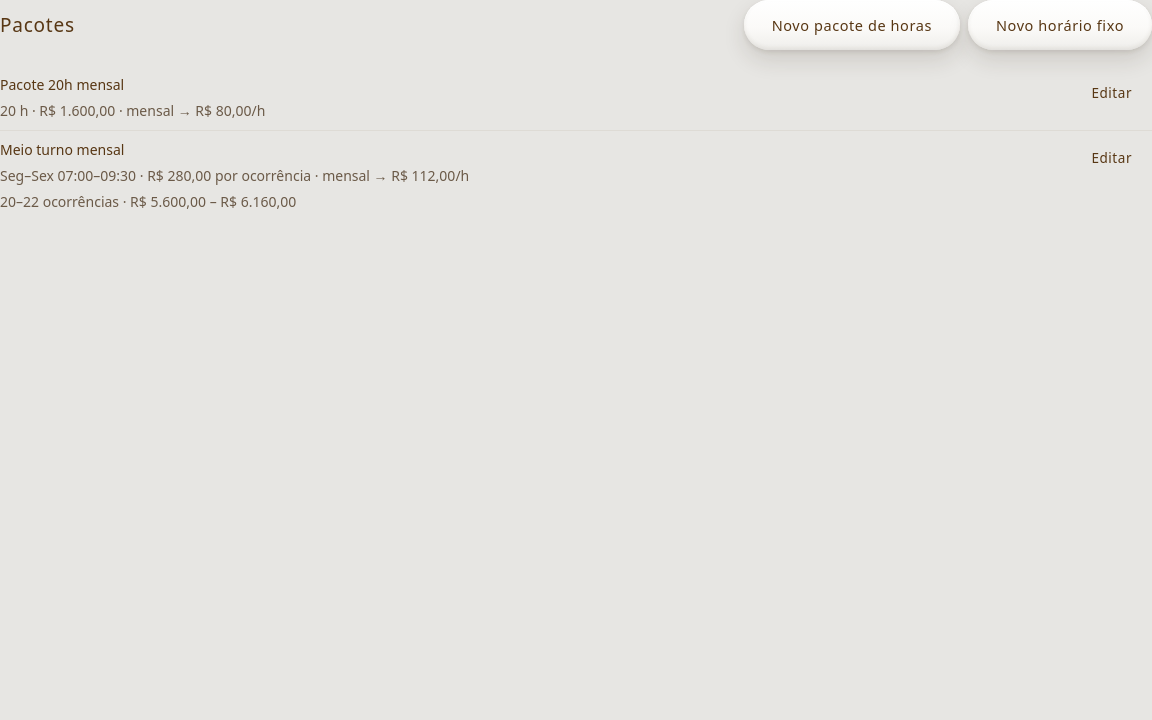
Test: Editing a package category (REC-05) › shows the locked-field message of a 409 above the form
The image size is (1152, 720).
Click the button with aria-label "Editar Meio turno mensal": (1112, 159) top-left (1071, 139), bottom-right (1151, 179)
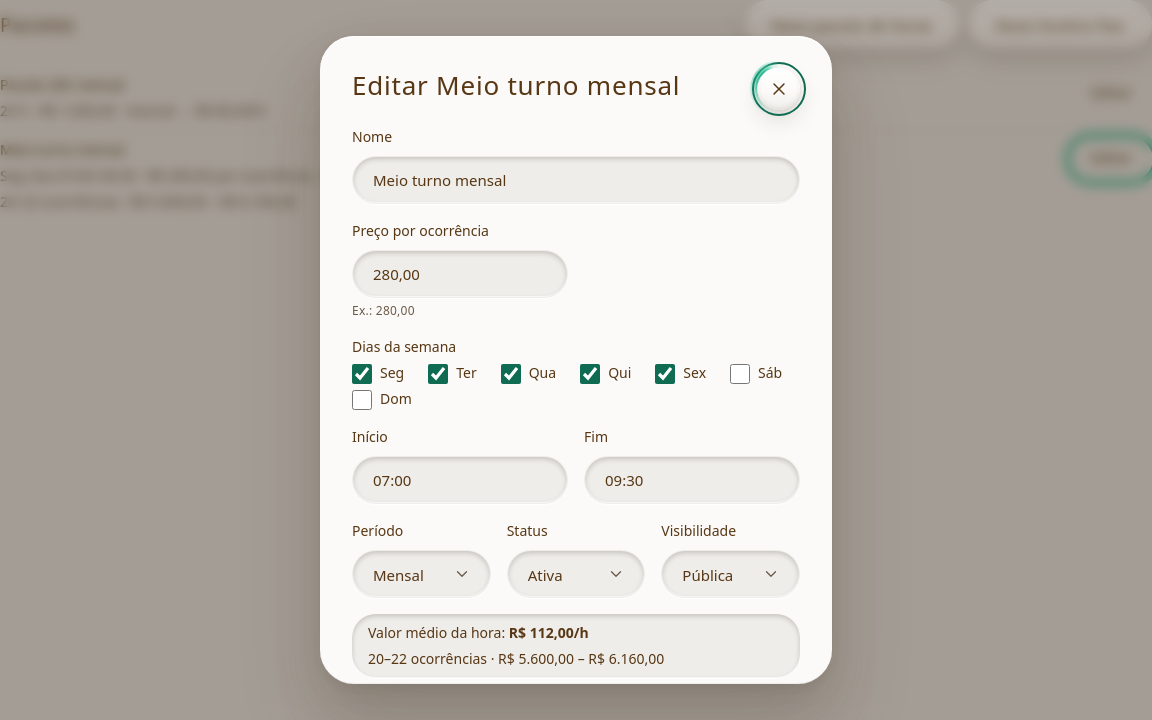
Click the checkbox labelled "Sáb": (740, 374) top-left (730, 364), bottom-right (750, 384)
(page scrolled)
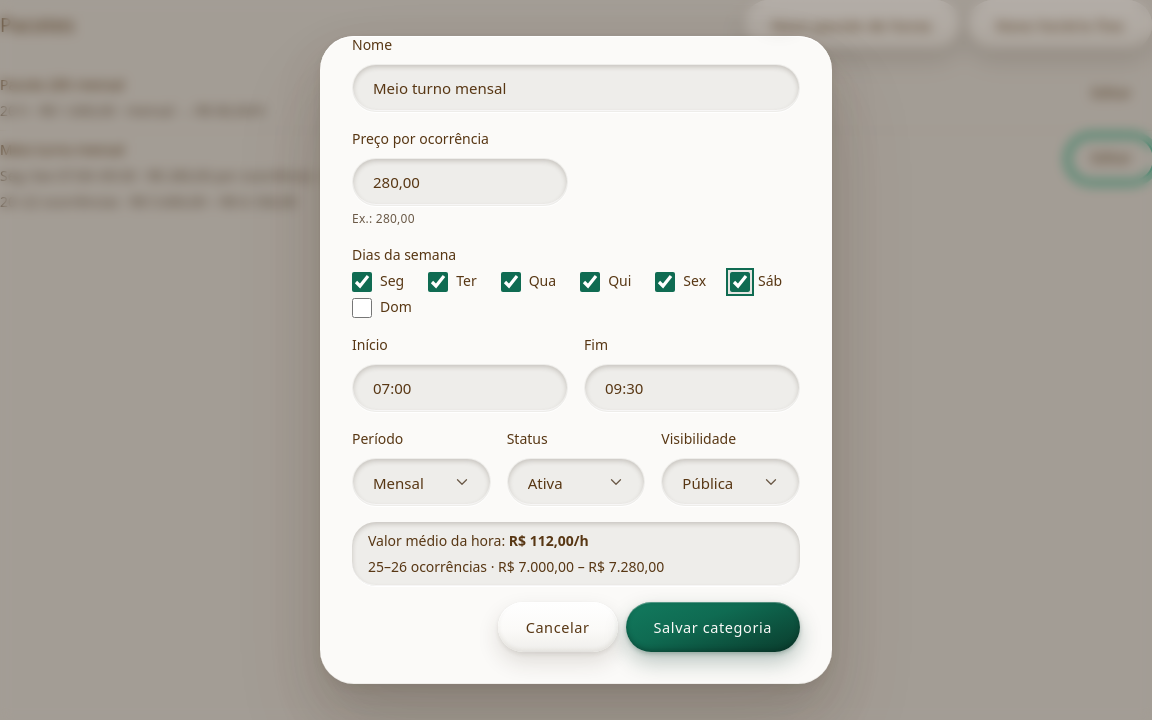
Click the button "Salvar categoria": (713, 627) top-left (626, 602), bottom-right (800, 652)
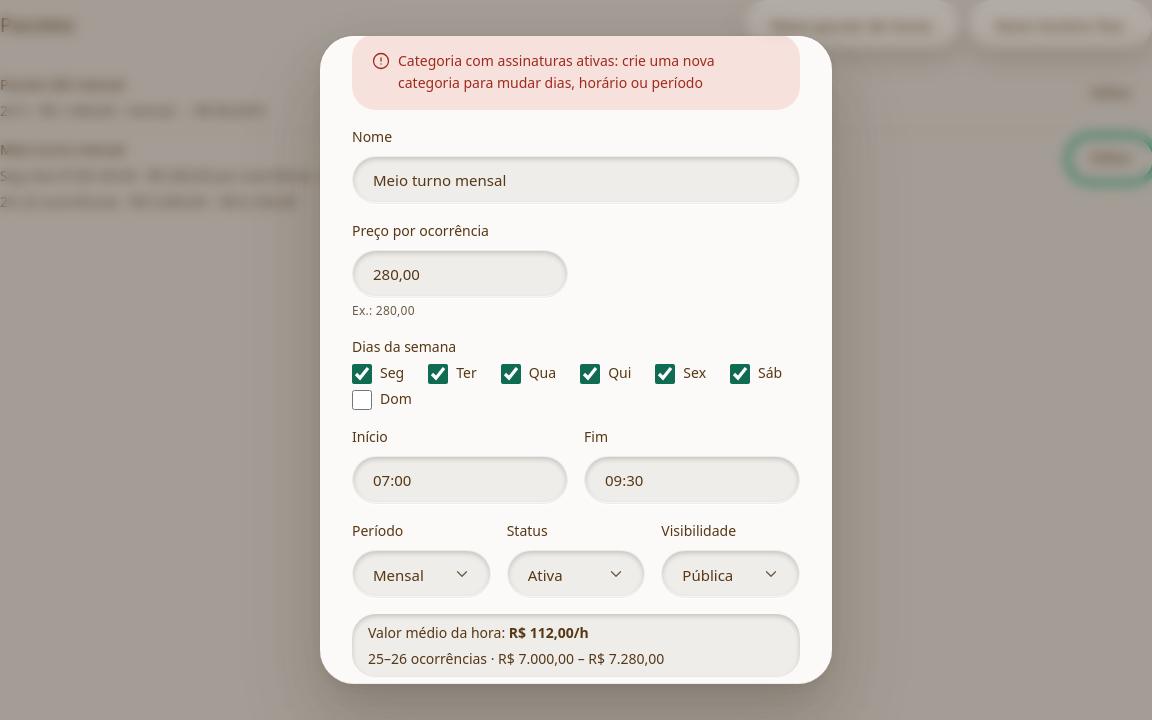
Now the message shows "Categoria com assinaturas ativas: crie uma nova categoria para mudar dias, horário ou período", box top-left (398, 51), bottom-right (715, 92)
